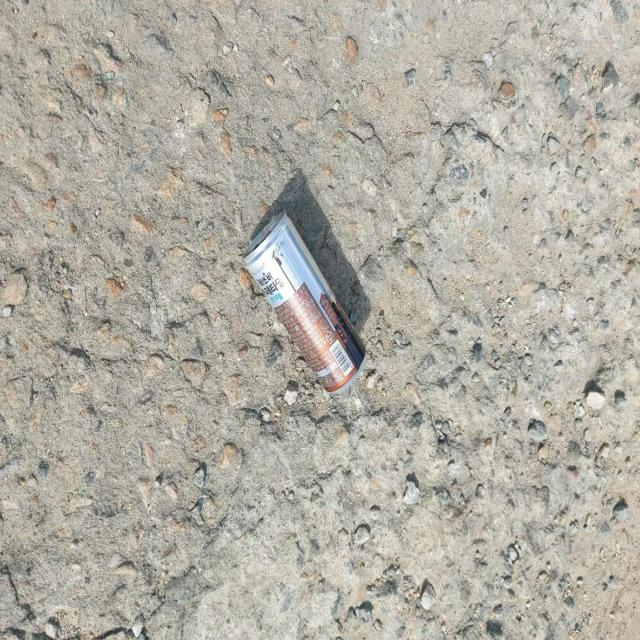can: (243, 214, 365, 394)
